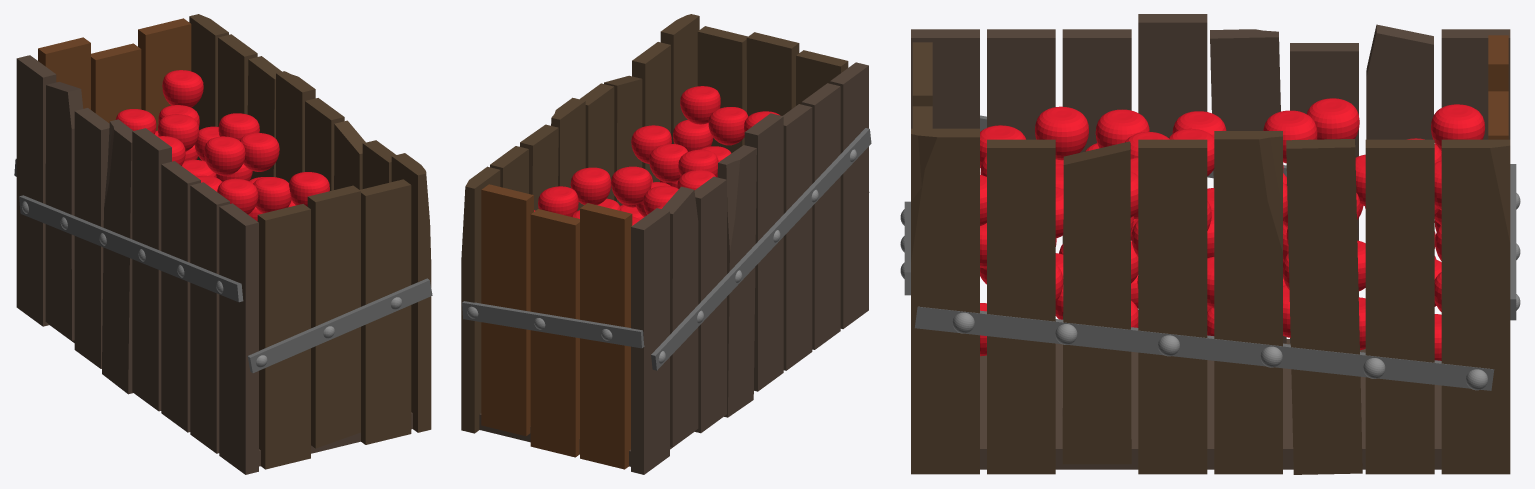
File: FOOD BOX.fbx
3 views of the same model, side by side, from view 1: azimuth 30°, elevation 25°; view 2: azimuth 150°, elevation 25°; view 3: azimuth 270°, elevation 25° (orthographic). The views are drawn at different scales.
Visible parts, largest first — view 1: Sphere.058; view 2: Sphere.058; view 3: Sphere.058.
Boxes of the visible parts, box(x1,y1,x2,y2) form: Sphere.058: box(14, 14, 432, 474); Sphere.058: box(461, 14, 871, 474); Sphere.058: box(900, 14, 1520, 474).
Bounding box in the file's own units: 233 × 295 × 475.
